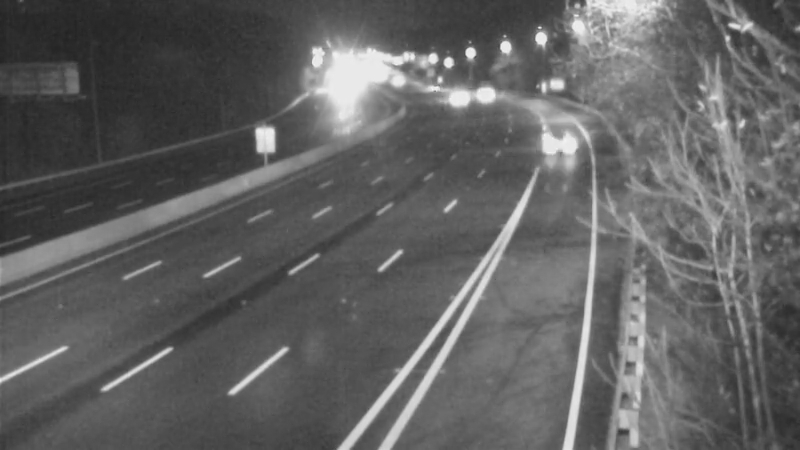vehicle: (402, 60, 452, 110), (457, 68, 507, 118), (427, 73, 477, 123), (533, 117, 583, 167)
